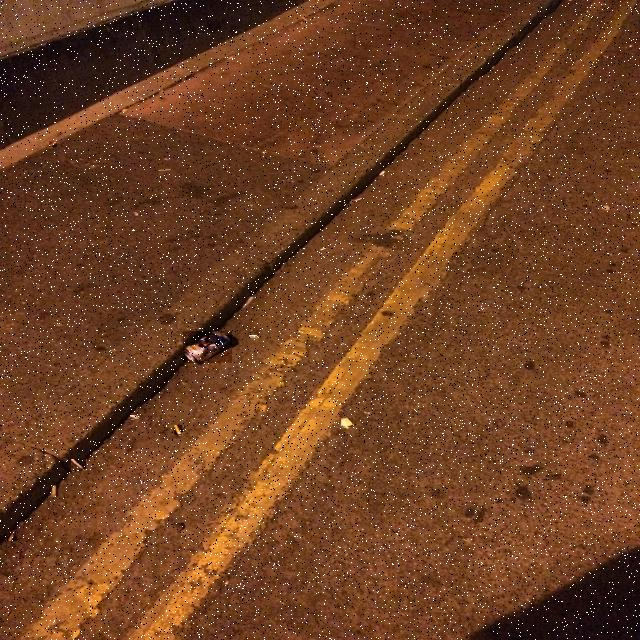Cigarette: (72, 460, 85, 471), (8, 531, 16, 541), (175, 426, 182, 435), (51, 486, 56, 497), (49, 142, 57, 147), (130, 416, 138, 418), (250, 336, 257, 337)
Drink can: (184, 332, 232, 363)
Unlabeled litter: (342, 419, 353, 427)
